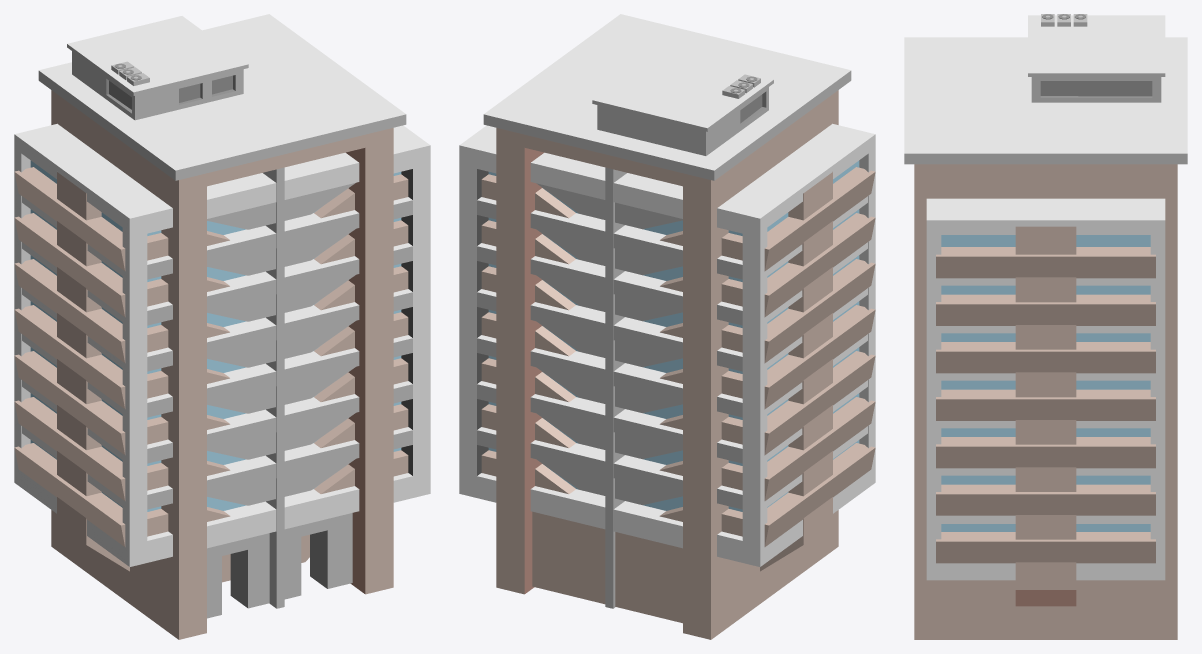
File: house_high_009.glb
3 views of the same model, side by side, from view 1: azimuth 30°, elevation 25°; view 2: azimuth 150°, elevation 25°; view 3: azimuth 270°, elevation 25° (orthographic). The views are drawn at different scales.
Visible parts, largest first — view 1: house_high_009; view 2: house_high_009; view 3: house_high_009.
Boxes of the visible parts, bbox=[...] form: house_high_009: bbox=[14, 14, 430, 639]; house_high_009: bbox=[459, 14, 875, 639]; house_high_009: bbox=[904, 14, 1187, 639].
Size of the model in its own units: 15.41 by 24.27 by 11.81.
1 material, 1 textured.
